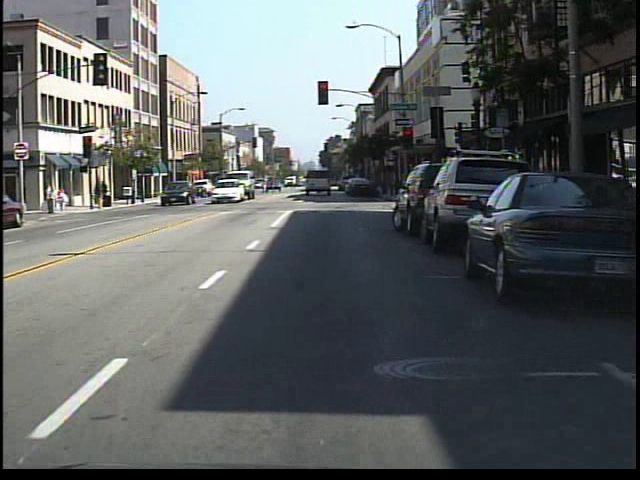person: (43, 181, 57, 218), (54, 184, 70, 214)
